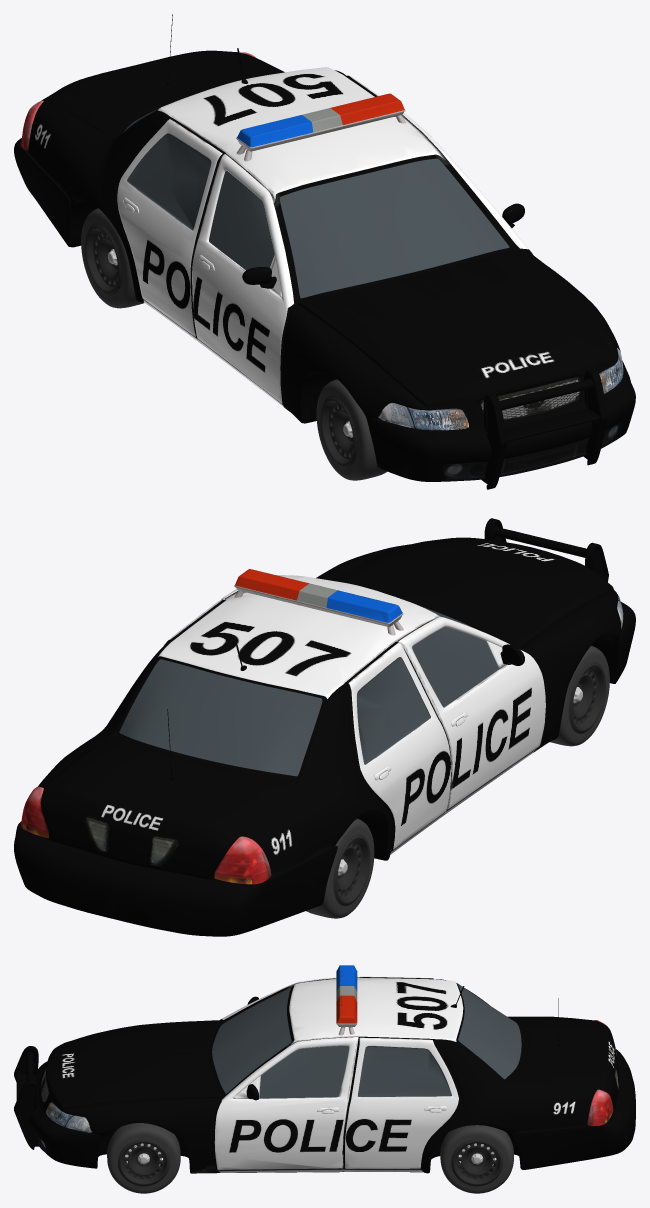
The model's file is interceptor.glb.
3 renders of one model, top to bottom at view 1: azimuth 30°, elevation 25°; view 2: azimuth 150°, elevation 25°; view 3: azimuth 270°, elevation 25°, orthographic. The views are drawn at different scales.
Visible parts, largest first — view 1: Cube, windows glass, CrownVic.Wheel.Ft.R, Cube.002, CrownVic.Wheel.Bk.R; view 2: Cube, windows glass, Cube.002, CrownVic.Wheel.Bk.R, CrownVic.Wheel.Ft.R; view 3: Cube, windows glass, CrownVic.Wheel.Ft.L, CrownVic.Wheel.Bk.L, Cube.002.
Boxes of the visible parts, x1=… form: Cube: x1=14, y1=14, x2=635, y2=489; windows glass: x1=122, y1=109, x2=509, y2=298; CrownVic.Wheel.Ft.R: x1=316, y1=379, x2=387, y2=480; Cube.002: x1=236, y1=93, x2=406, y2=161; CrownVic.Wheel.Bk.R: x1=81, y1=208, x2=143, y2=308; Cube: x1=14, y1=518, x2=635, y2=936; windows glass: x1=119, y1=606, x2=499, y2=776; Cube.002: x1=234, y1=569, x2=403, y2=635; CrownVic.Wheel.Bk.R: x1=306, y1=818, x2=374, y2=918; CrownVic.Wheel.Ft.R: x1=550, y1=645, x2=609, y2=746; Cube: x1=14, y1=976, x2=635, y2=1173; windows glass: x1=212, y1=984, x2=521, y2=1098; CrownVic.Wheel.Ft.L: x1=107, y1=1123, x2=180, y2=1193; CrownVic.Wheel.Bk.L: x1=440, y1=1125, x2=513, y2=1193; Cube.002: x1=336, y1=965, x2=357, y2=1035.
Bounding box in the file's own units: 2.48 × 1.98 × 6.7.
Materials: 7 (5 with a texture image).
